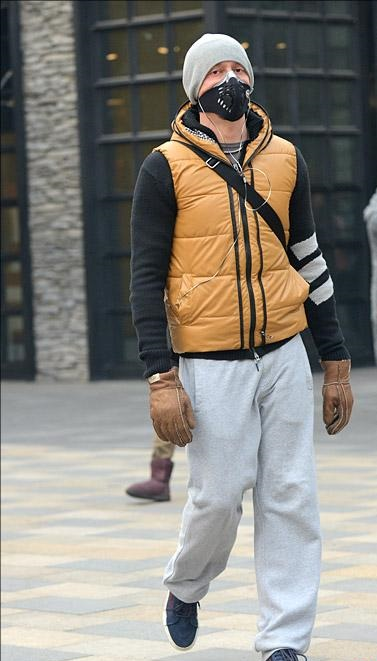face_mask: (196, 54, 250, 124)
